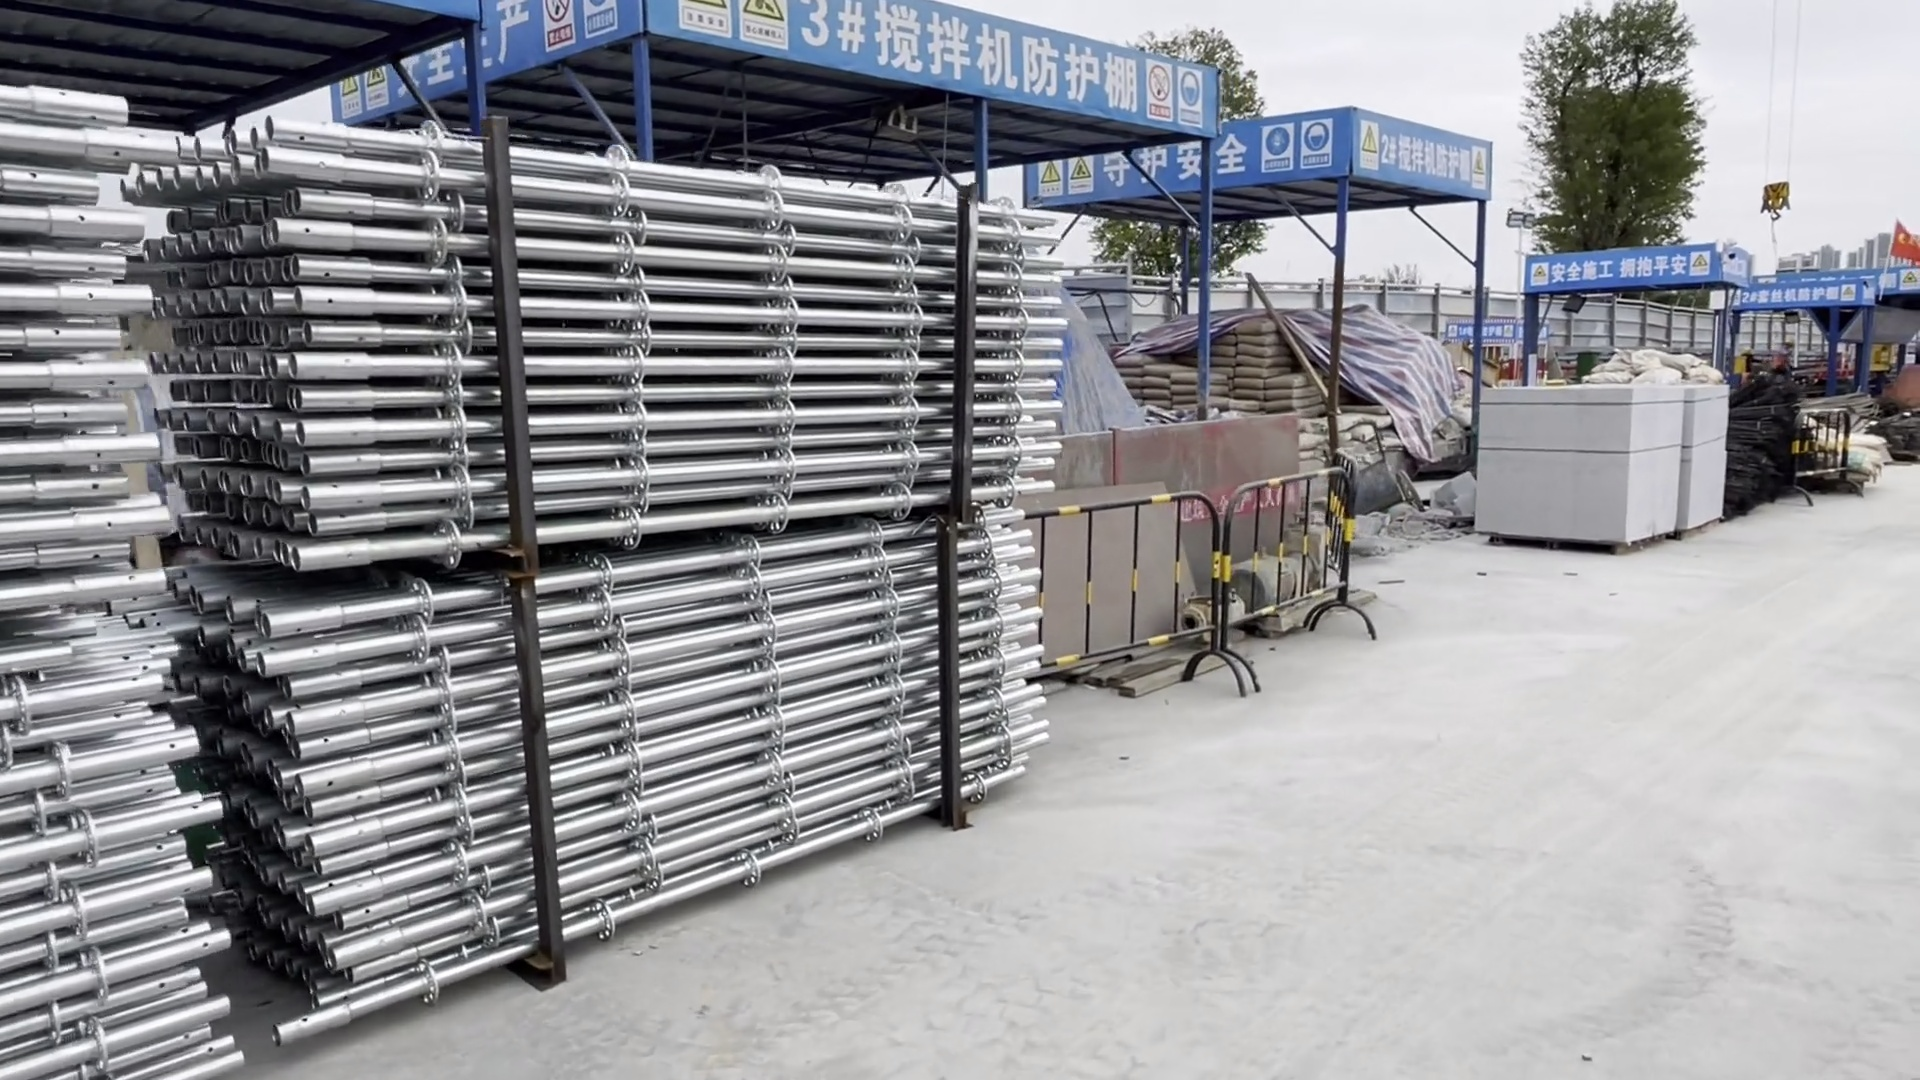brick: (1465, 384, 1683, 560), (1669, 381, 1734, 559)
scaffold: (1, 94, 1062, 1080)
slogan: (1026, 113, 1352, 193), (1524, 247, 1706, 284), (688, 1, 800, 61), (1145, 51, 1203, 119)
